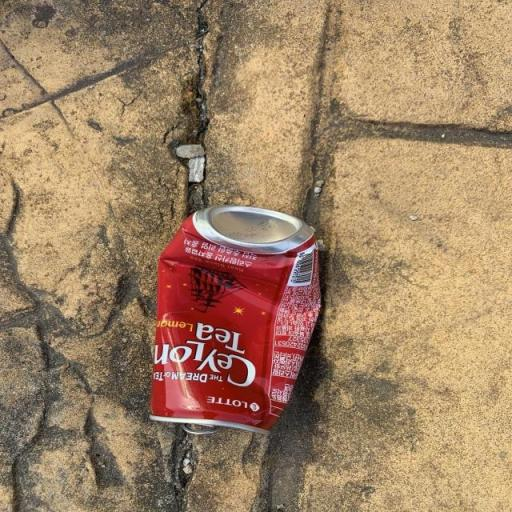metal: (99, 184, 346, 456)
